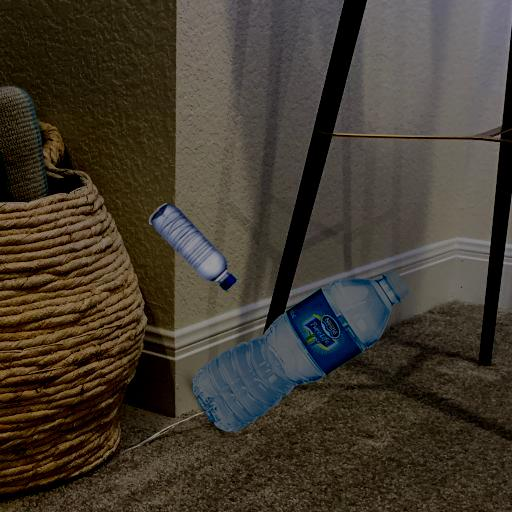bottle: (178, 267, 408, 434), (148, 196, 240, 298)
